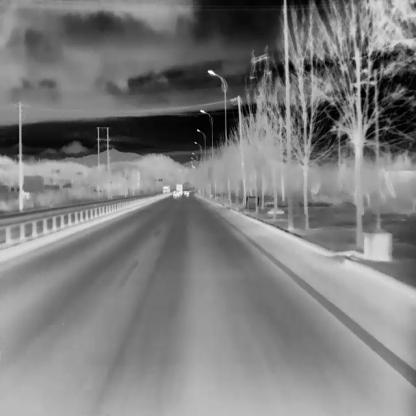car: (162, 184, 170, 194), (176, 183, 182, 196), (173, 189, 180, 198), (184, 189, 189, 195)
